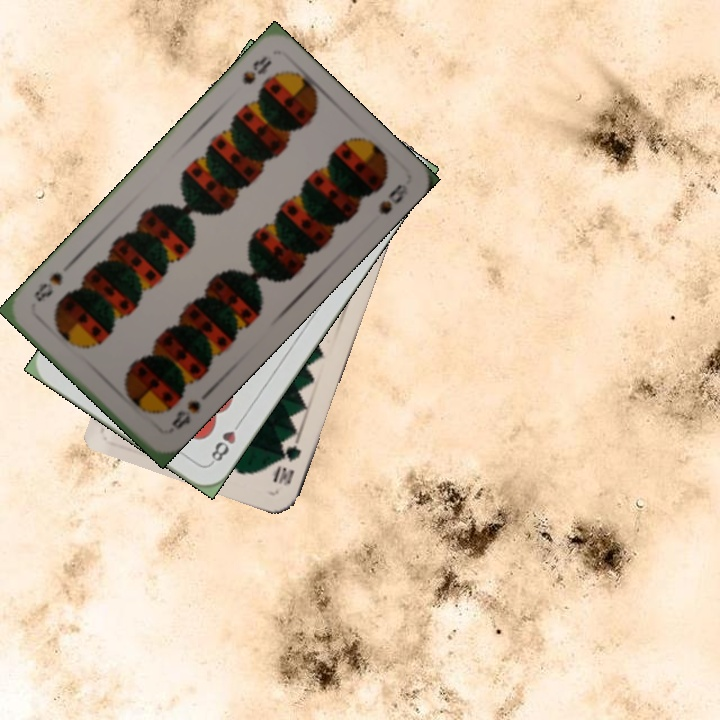G10: (270, 441, 304, 489)
H8: (206, 415, 245, 467)
S8: (238, 51, 275, 87), (167, 396, 203, 432)
